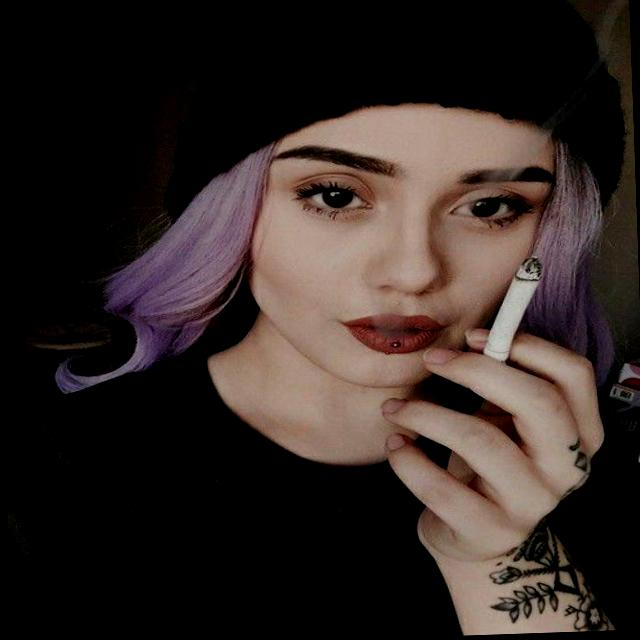smoke: (440, 238, 567, 404)
